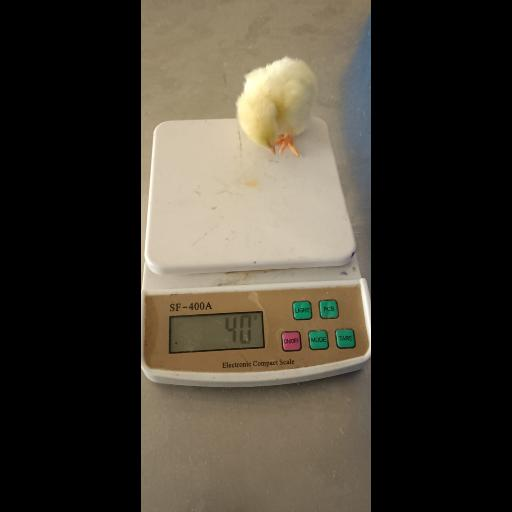chick: (236, 56, 321, 159)
